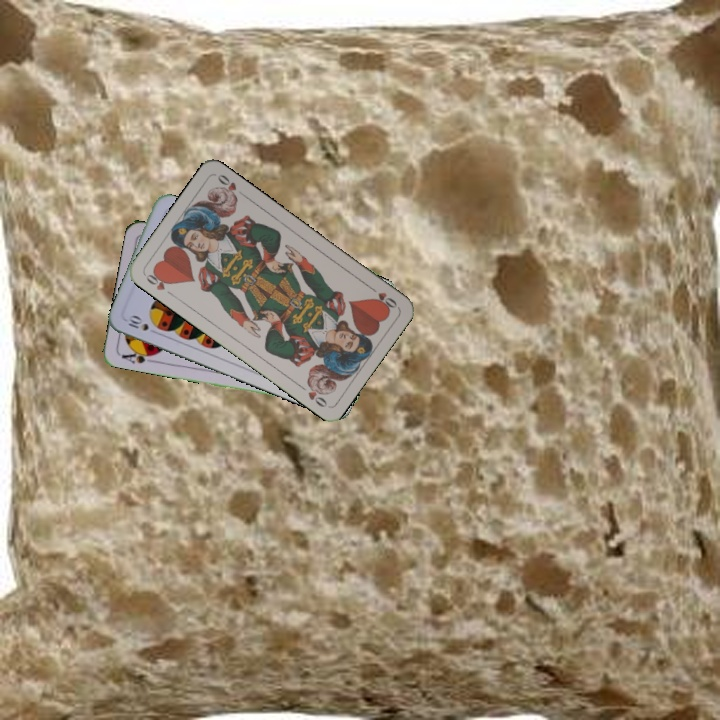HO: (141, 267, 176, 299), (365, 282, 400, 312)
S10: (122, 312, 152, 334)
SA: (117, 345, 158, 366)
